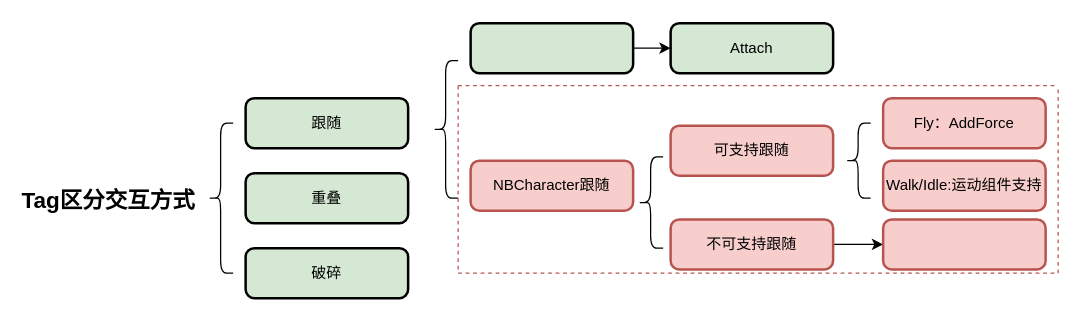
Image size: 1080x320. Some labels were removed from this diagram. The shapes that lost their labels are listed below. From the top down, each one's box as (x1, y1, x2, y2) in pixels, then its label:
(469, 21, 634, 74): NBActor跟随
(881, 218, 1046, 270): 迭代寻找新位置
